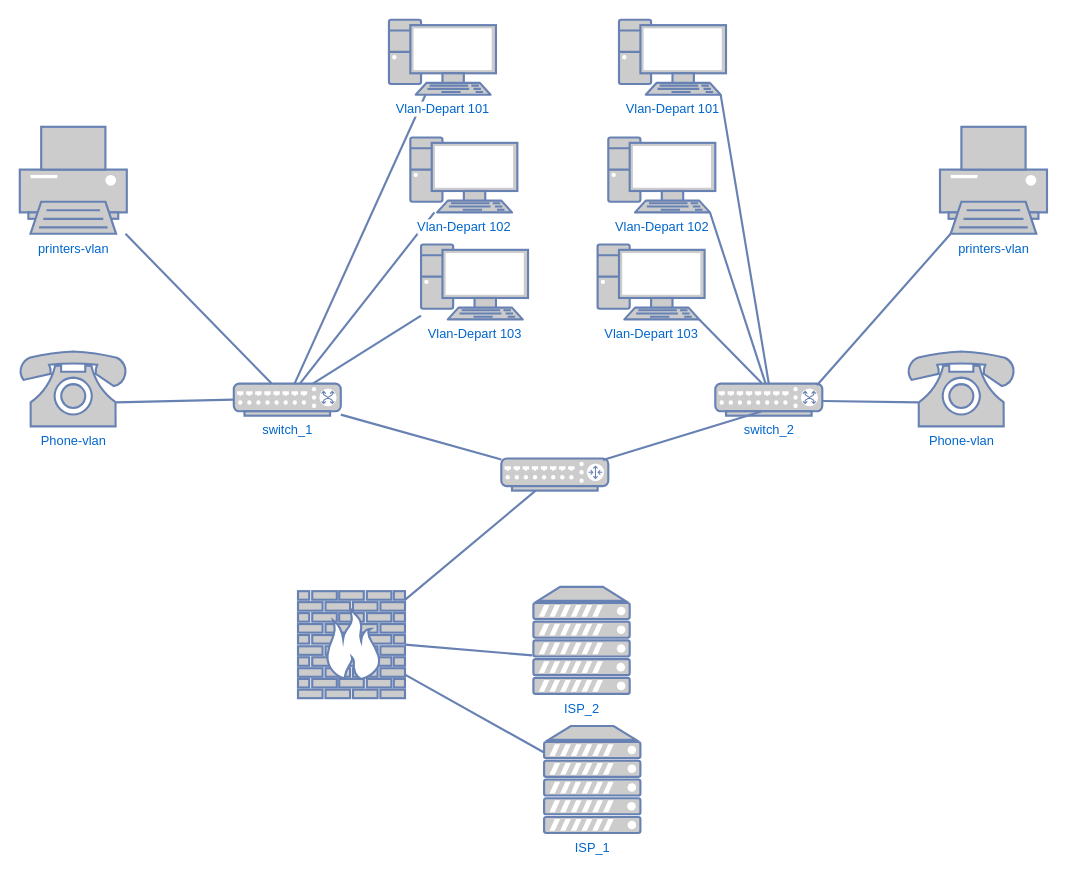
Some shapes in this 1066 by 873 pixel diagram are drawn without their labels. Each missing label, with the centre of its shape:
Core-router: the point at 554,474
firewall: the point at 351,644
